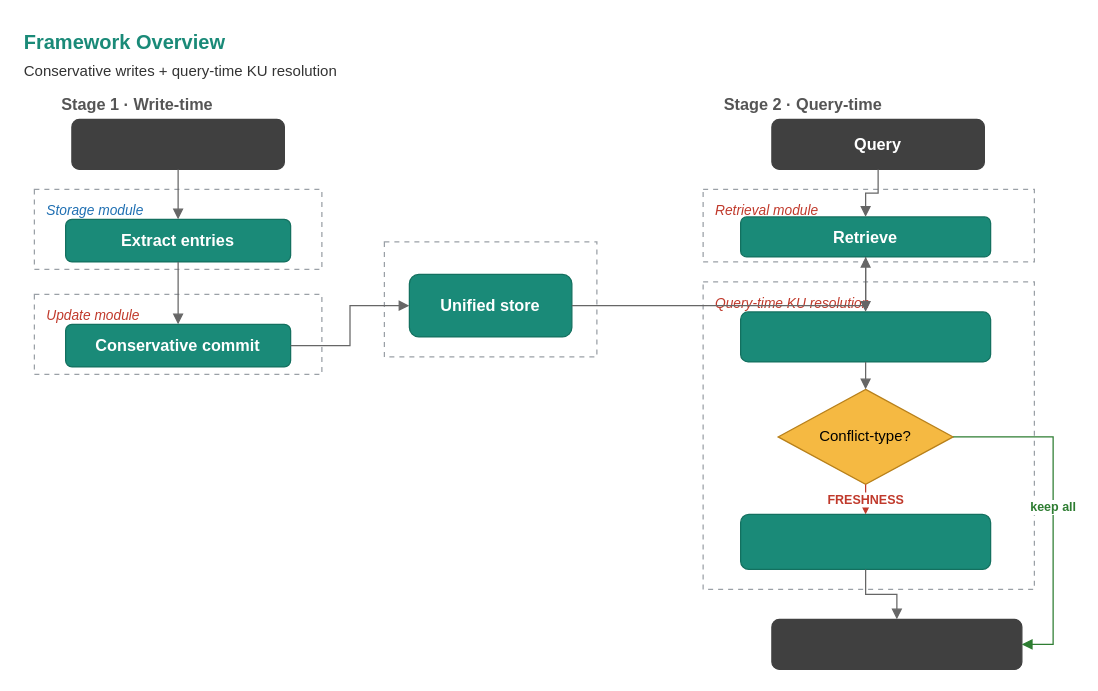
Some shapes in this 1098 by 691 pixel diagram are drawn without their labels. The box of each missing label's shape, as (x1, y1, x2, y2) in pixels:
Identity grouping: (739, 311, 991, 362)
Inference LLM: (771, 618, 1022, 669)
Memory bank: (383, 241, 597, 357)
New info: (71, 118, 284, 169)
Temporal resolution: (739, 513, 991, 569)
